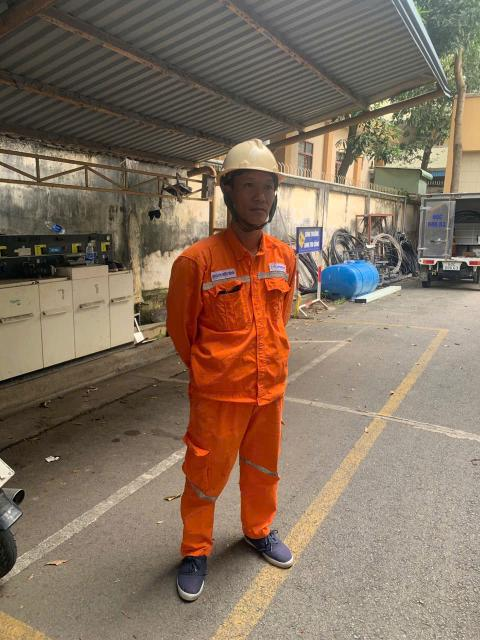helmet: (215, 137, 296, 186)
shoes: (229, 515, 317, 580), (171, 532, 216, 606)
